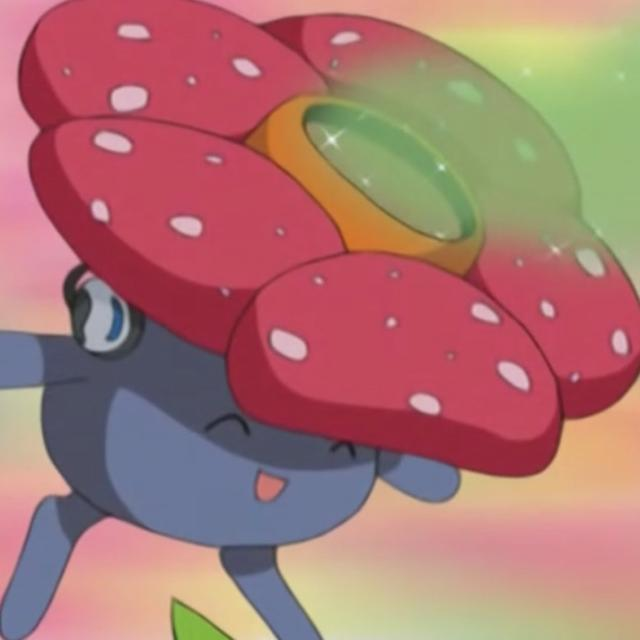Vileplume: (26, 14, 560, 587)
